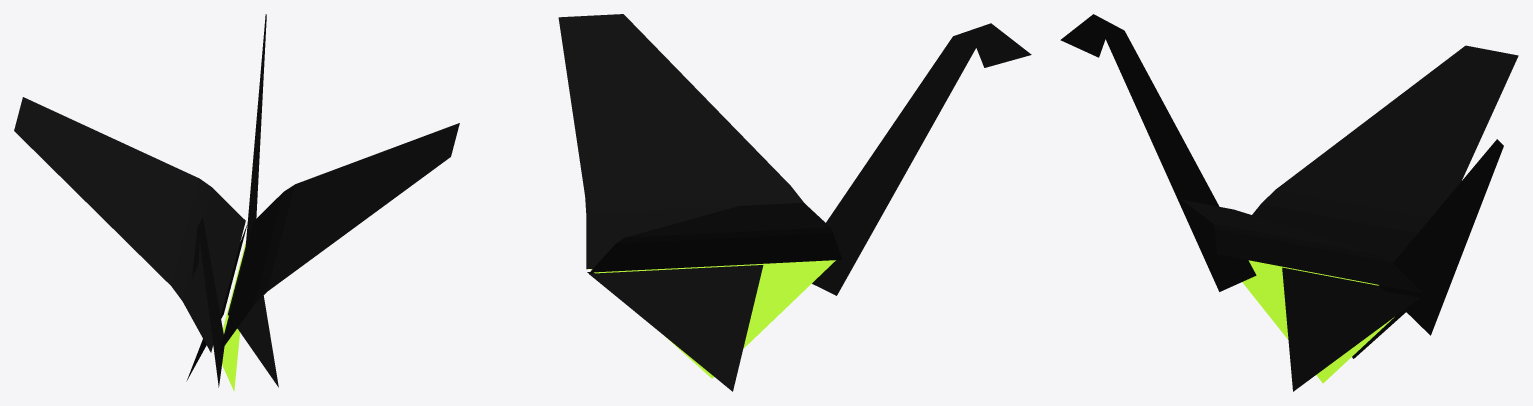
3 renders of one model, left to right at view 1: azimuth 30°, elevation 25°; view 2: azimuth 150°, elevation 25°; view 3: azimuth 270°, elevation 25°, orthographic. The views are drawn at different scales.
Parts seen in each view (by area): view 1: side_R, side_L, neck, tail, keel; view 2: side_L, side_R, neck, keel, head; view 3: side_R, side_L, neck, tail, keel, head.
Boxes of the visible parts, x1,y1,x2,y2 form: side_R: [14, 97, 247, 381]; side_L: [219, 123, 459, 387]; neck: [199, 217, 224, 387]; tail: [245, 14, 266, 250]; keel: [222, 242, 245, 391]; side_L: [558, 14, 803, 273]; side_R: [589, 202, 841, 391]; neck: [812, 36, 975, 295]; keel: [590, 260, 835, 378]; head: [953, 23, 1031, 67]; side_R: [1252, 45, 1518, 358]; side_L: [1181, 199, 1422, 391]; neck: [1105, 30, 1256, 291]; tail: [1379, 139, 1503, 335]; keel: [1242, 260, 1394, 383]; head: [1060, 14, 1123, 57].
Size of the model in its own units: 1.5 by 1.18 by 1.62.
